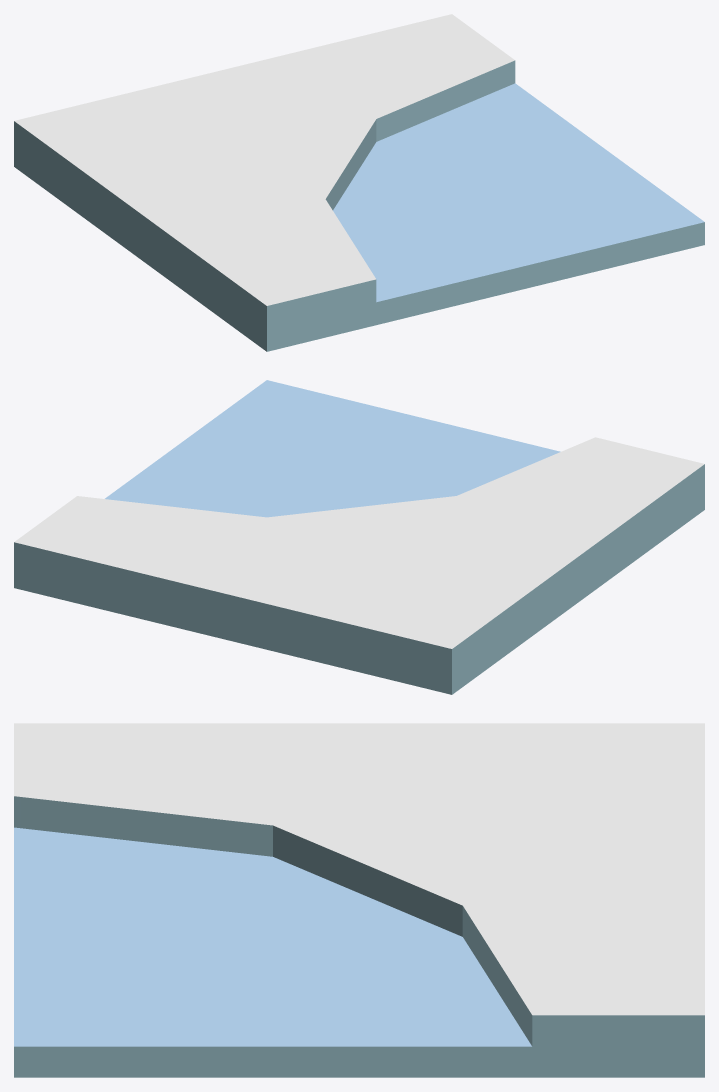
Rendered from Terrain_Modular_Tiles_Snow_Ice_Water_Edge_Corner_Outer_01.fbx.
3 renders of one model, top to bottom at view 1: azimuth 30°, elevation 25°; view 2: azimuth 150°, elevation 25°; view 3: azimuth 270°, elevation 25°, orthographic. The views are drawn at different scales.
Visible parts, largest first — view 1: Terrain_Modular_Tiles_Snow_Ice_Water_Edge_Corner_Outer_01; view 2: Terrain_Modular_Tiles_Snow_Ice_Water_Edge_Corner_Outer_01; view 3: Terrain_Modular_Tiles_Snow_Ice_Water_Edge_Corner_Outer_01.
Boxes of the visible parts, left/top/right/bottom form: Terrain_Modular_Tiles_Snow_Ice_Water_Edge_Corner_Outer_01: left=14, top=14, right=704, bottom=351; Terrain_Modular_Tiles_Snow_Ice_Water_Edge_Corner_Outer_01: left=14, top=380, right=704, bottom=694; Terrain_Modular_Tiles_Snow_Ice_Water_Edge_Corner_Outer_01: left=14, top=723, right=704, bottom=1077.
Size of the model in its own units: 3000 by 300 by 3000.
